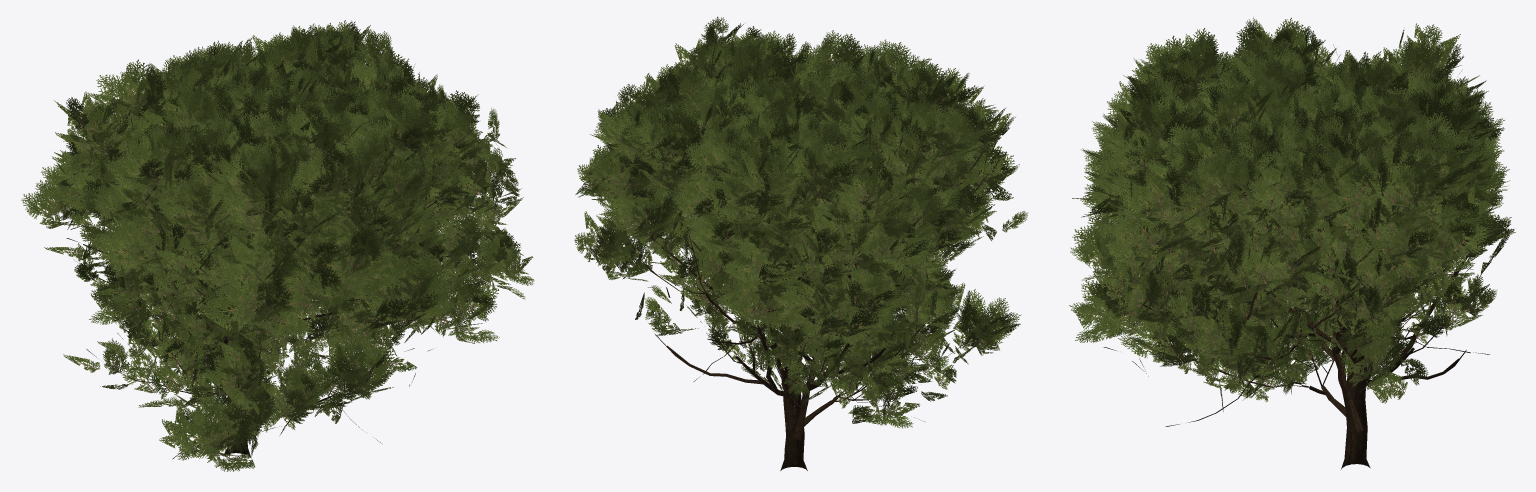
Rendered from Plant_B.glb.
3 renders of one model, left to right at view 1: azimuth 30°, elevation 25°; view 2: azimuth 150°, elevation 25°; view 3: azimuth 270°, elevation 25°, orthographic. The views are drawn at different scales.
Visible parts, largest first — view 1: Leaf01_1_Leaf01_su_SHD_0, Leaf01_1_Leaf01_su_SHD_0.004, Leaf01_1_Leaf01_su_SHD_0.005, Plant_B; view 2: Leaf01_1_Leaf01_su_SHD_0, Leaf01_1_Leaf01_su_SHD_0.004, Leaf01_1_Leaf01_su_SHD_0.005, Plant_B; view 3: Leaf01_1_Leaf01_su_SHD_0, Leaf01_1_Leaf01_su_SHD_0.004, Plant_B, Leaf01_1_Leaf01_su_SHD_0.005.
Boxes of the visible parts, box(x1,y1,x2,y2) form: Leaf01_1_Leaf01_su_SHD_0: box(21, 20, 520, 423); Leaf01_1_Leaf01_su_SHD_0.004: box(63, 24, 534, 471); Leaf01_1_Leaf01_su_SHD_0.005: box(95, 203, 287, 404); Plant_B: box(58, 62, 480, 459); Leaf01_1_Leaf01_su_SHD_0: box(575, 16, 1028, 395); Leaf01_1_Leaf01_su_SHD_0.004: box(574, 23, 1021, 428); Leaf01_1_Leaf01_su_SHD_0.005: box(686, 158, 969, 402); Plant_B: box(636, 34, 1015, 470); Leaf01_1_Leaf01_su_SHD_0: box(1069, 17, 1515, 411); Leaf01_1_Leaf01_su_SHD_0.004: box(1070, 56, 1514, 401); Plant_B: box(1103, 44, 1489, 469); Leaf01_1_Leaf01_su_SHD_0.005: box(1228, 278, 1420, 392).
Size of the model in its own units: 0.4502 by 0.461 by 0.4747.
Materials: 2 (2 with a texture image).
